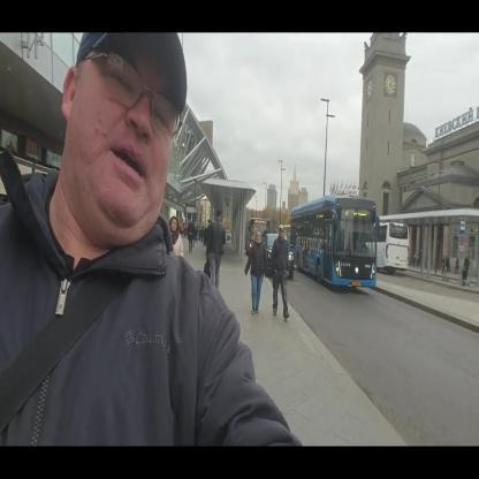bus: (291, 196, 381, 290), (383, 221, 411, 271)
